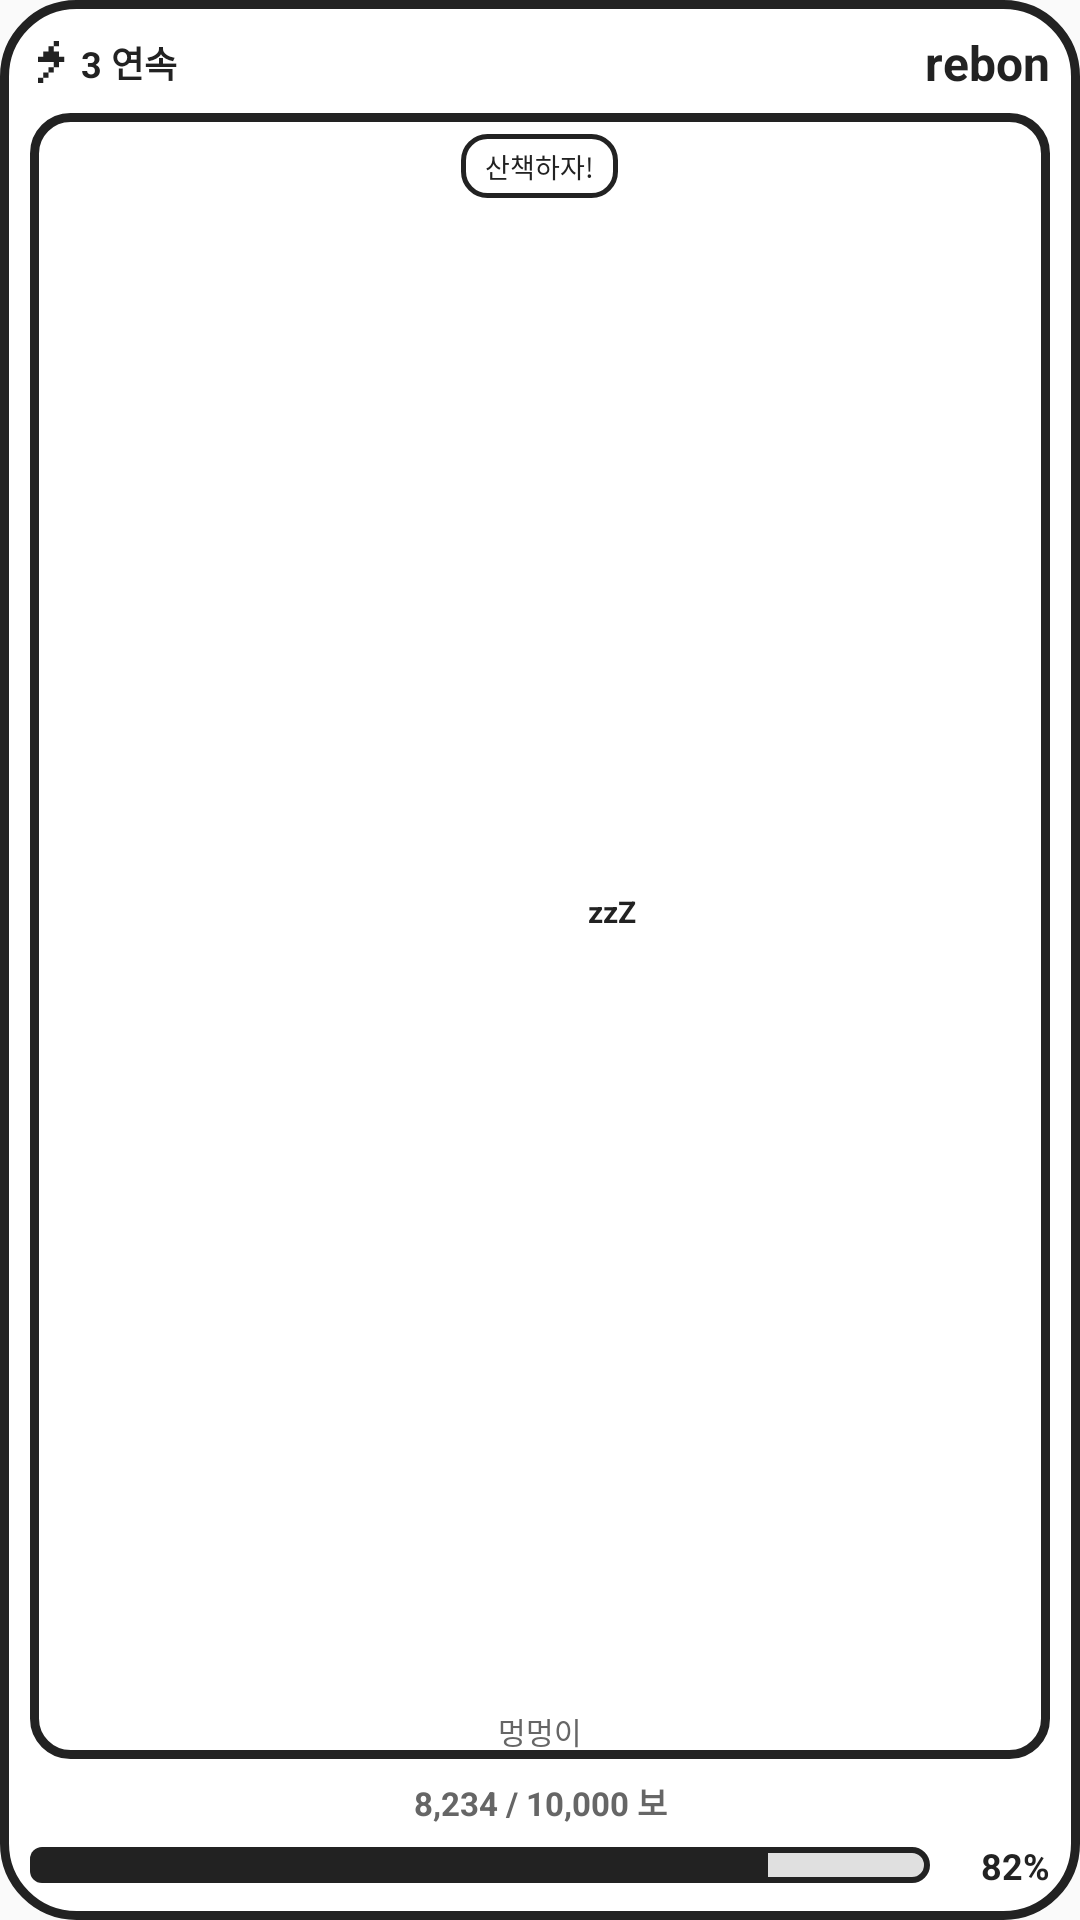

Point at icon controls on the screen. Image size 1080w x 1920h, points as (x=x, y=y).
streak: (x=51, y=62)
